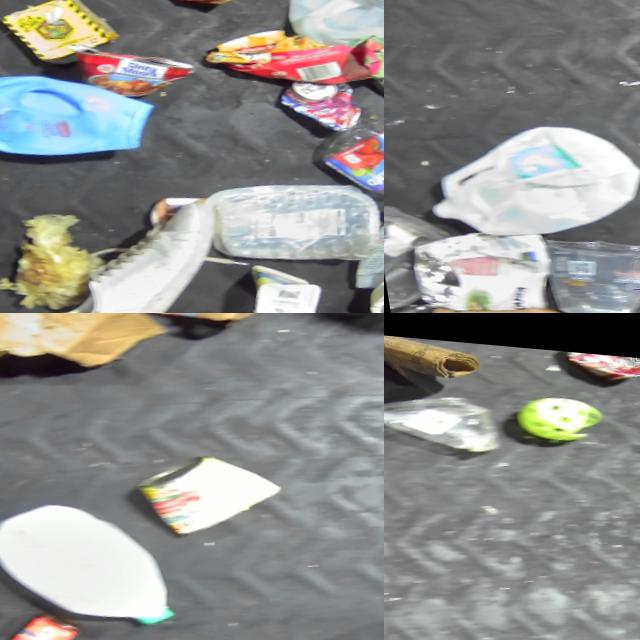can: (121, 440, 286, 550), (567, 342, 640, 381)
milk_jug: (423, 103, 640, 252), (0, 482, 175, 640), (274, 0, 384, 57), (350, 214, 384, 313)
non_white_jug: (0, 50, 157, 170)
plastic_bottle: (384, 372, 503, 466)
